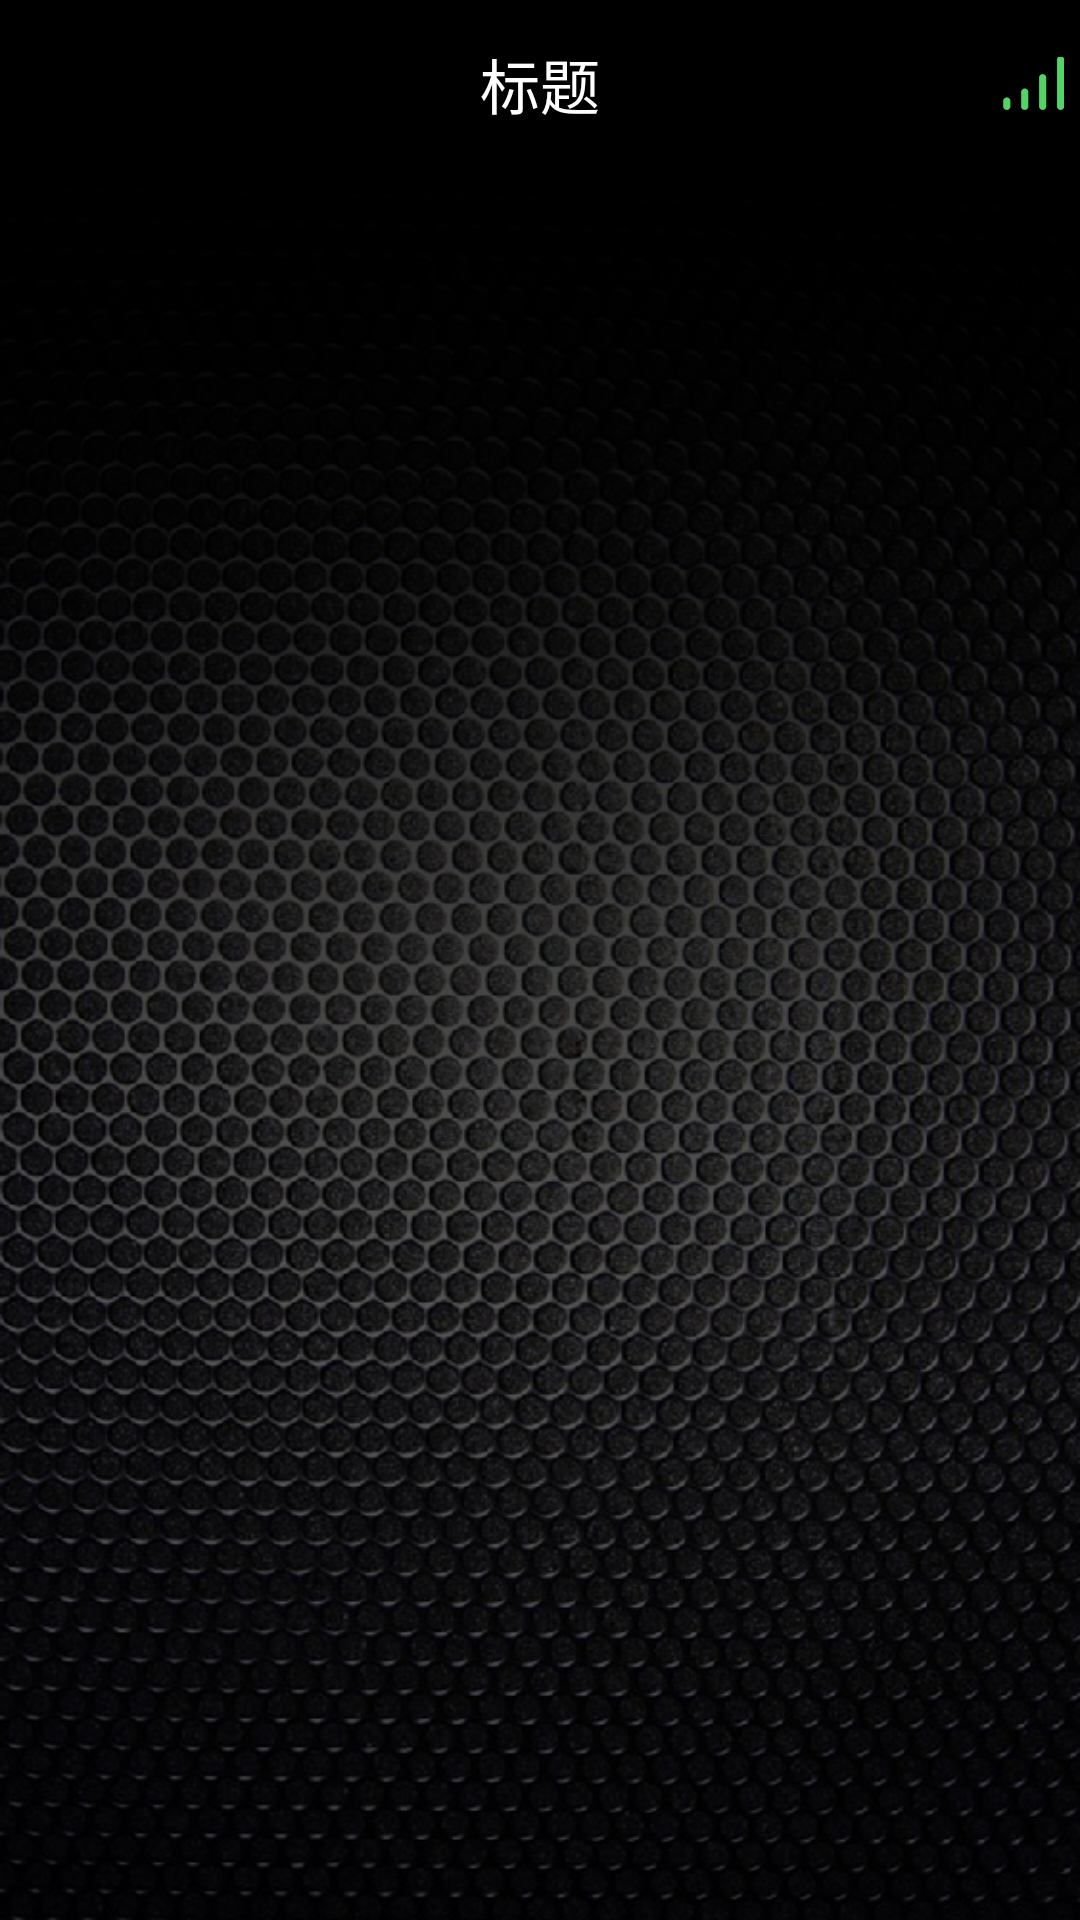

Icon click points for this 1080px x 1920px phone screenshot, format (x,y):
home signal: (1033,83)
